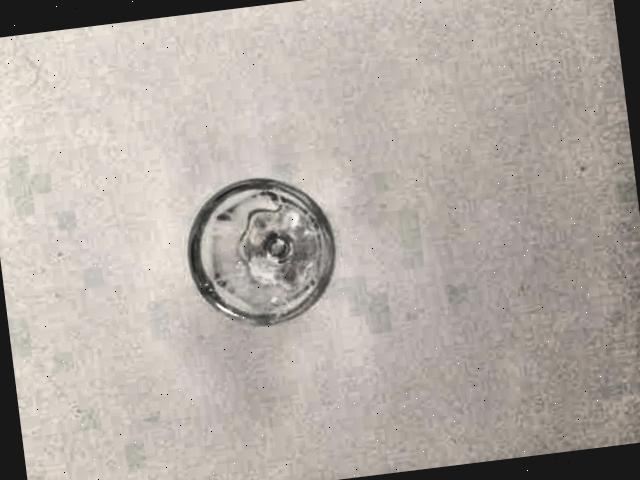Almennt: (163, 152, 353, 344)
